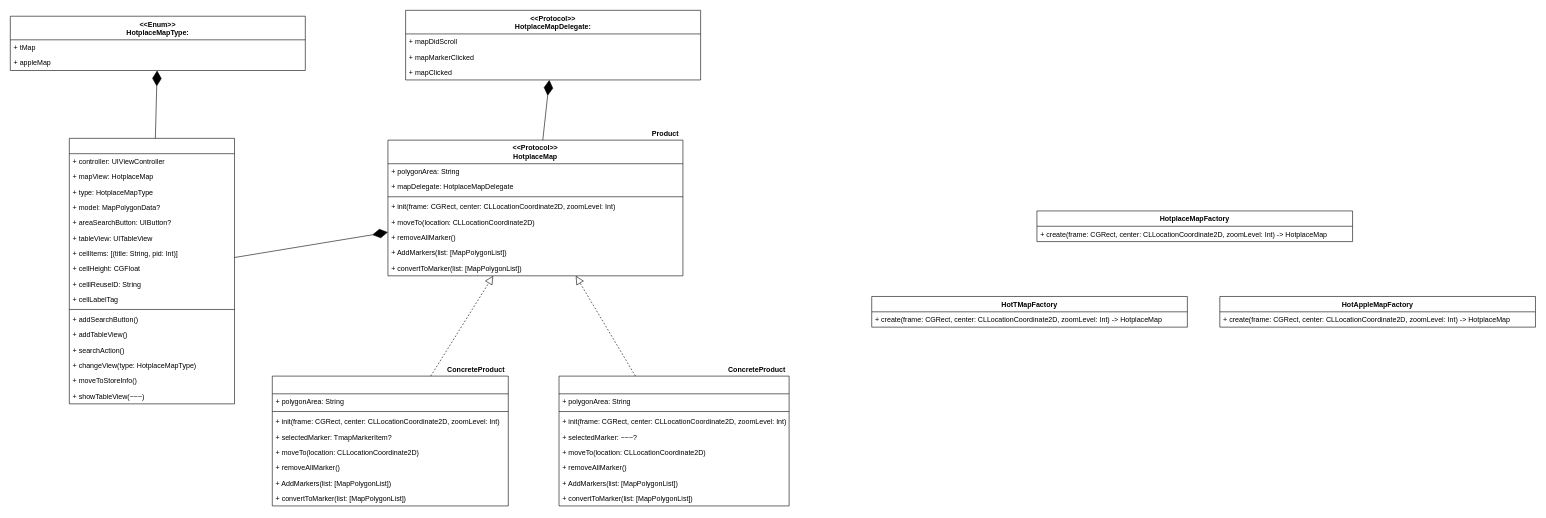
Some shapes in this 1546 by 518 pixel diagram are drawn without their labels. The box of each missing label's shape, as (x1, y1, x2, y2) in pixels:
HotplaceAppleMapView: (558, 376, 789, 506)
HotplaceMapViewer: (69, 138, 235, 404)
HotplaceTMapView: (272, 376, 508, 506)
